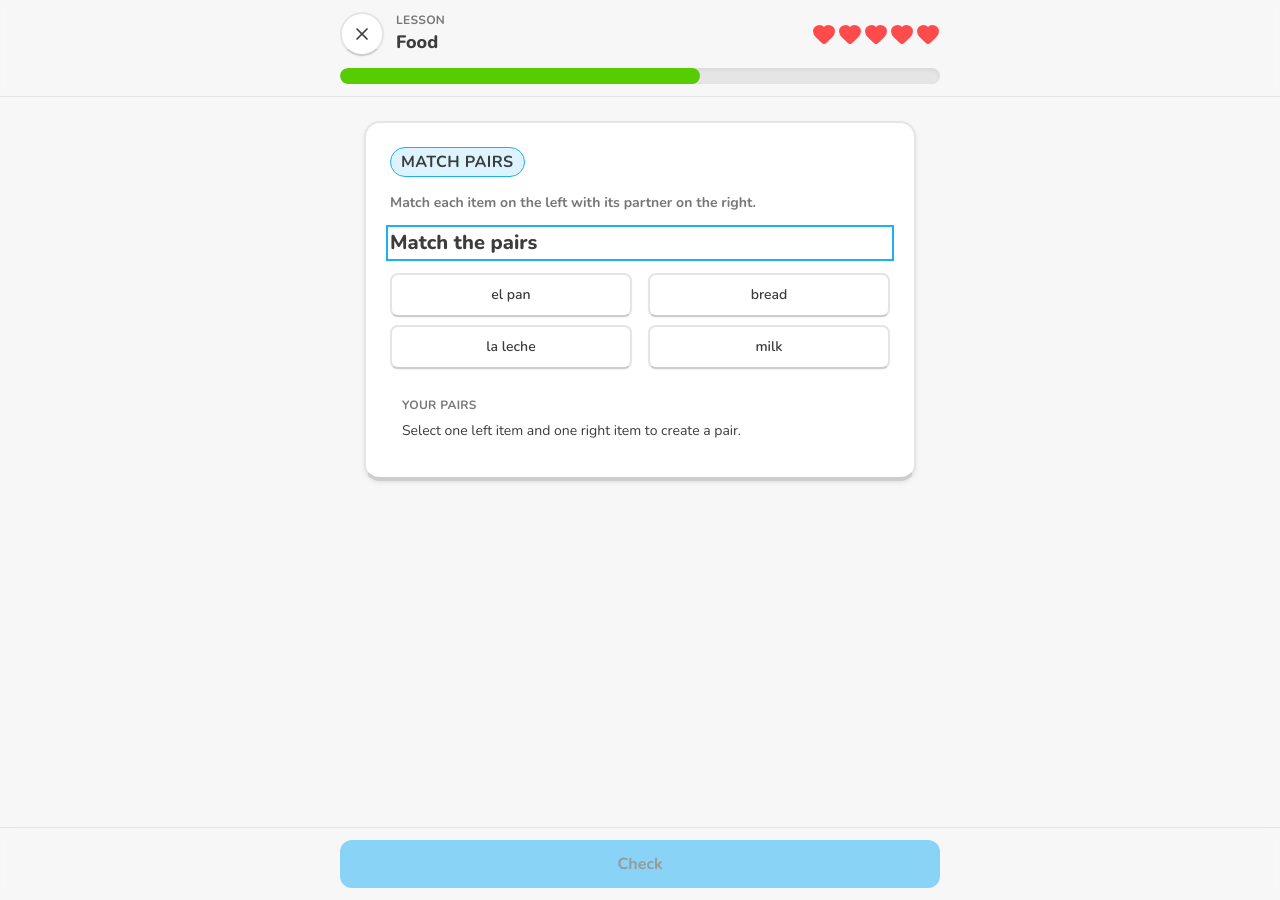
Test: Phase 10C feedback, failure, refill, and results › formats match-pair solutions accessibly after the answer response
Expected: the heading "Match the pairs" is shown, [390,229,537,256]
Click the button with aria-label "el pan, left item" at (511, 294), box [390,272,632,316]
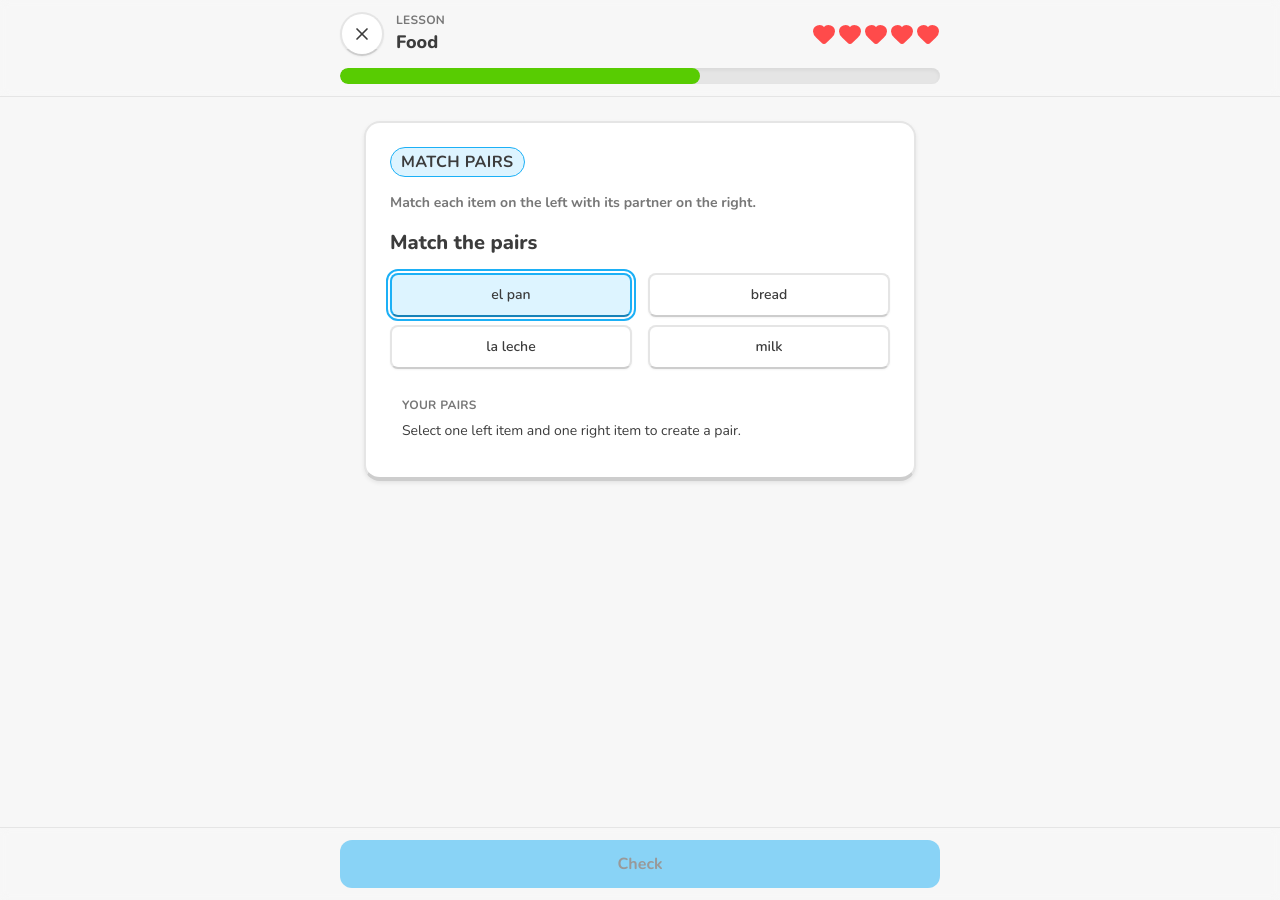
Click the button with aria-label "milk, right item" at (769, 346), box [648,324,890,368]
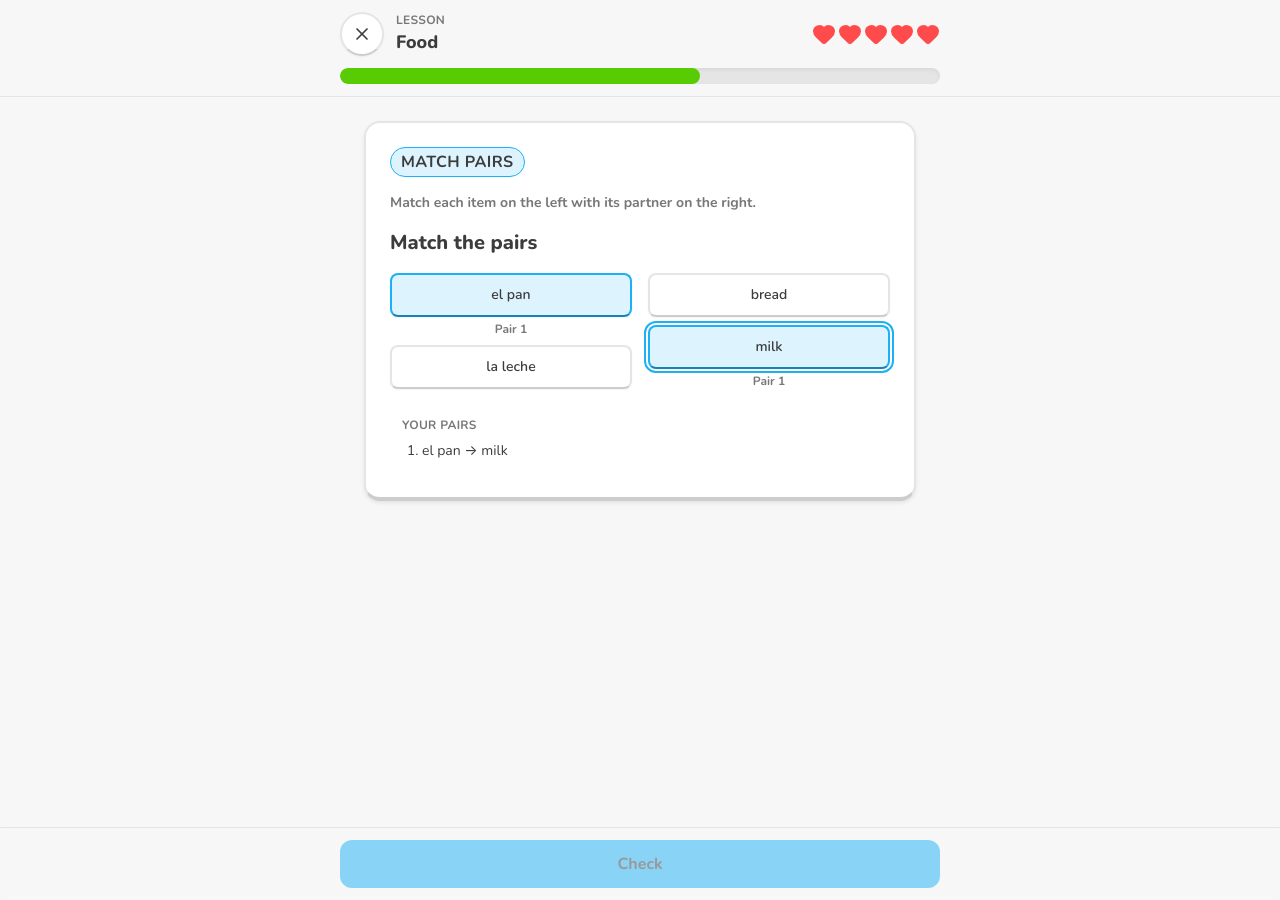
Click the button with aria-label "la leche, left item" at (511, 366), box [390,344,632,388]
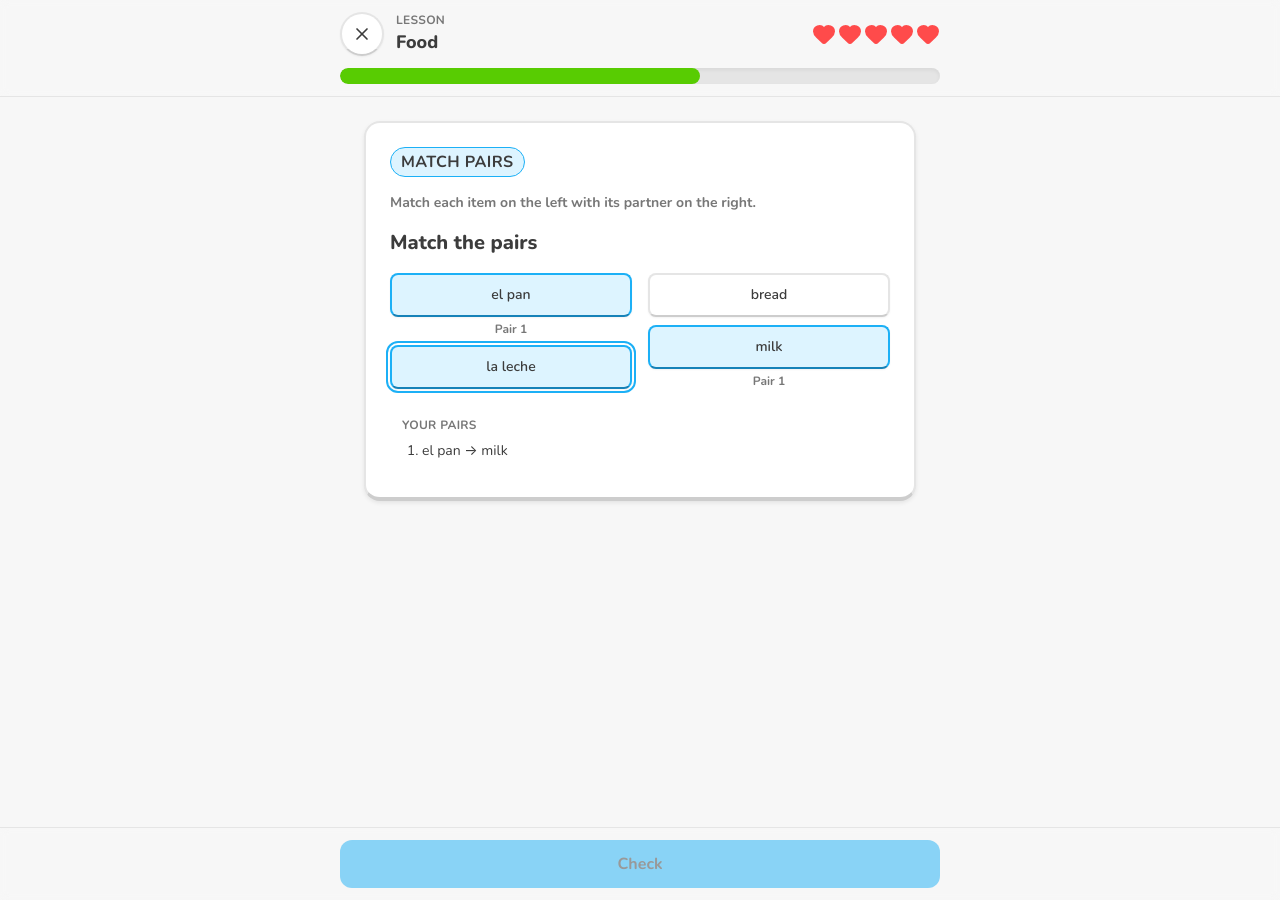
Click the button with aria-label "bread, right item" at (769, 294), box [648,272,890,316]
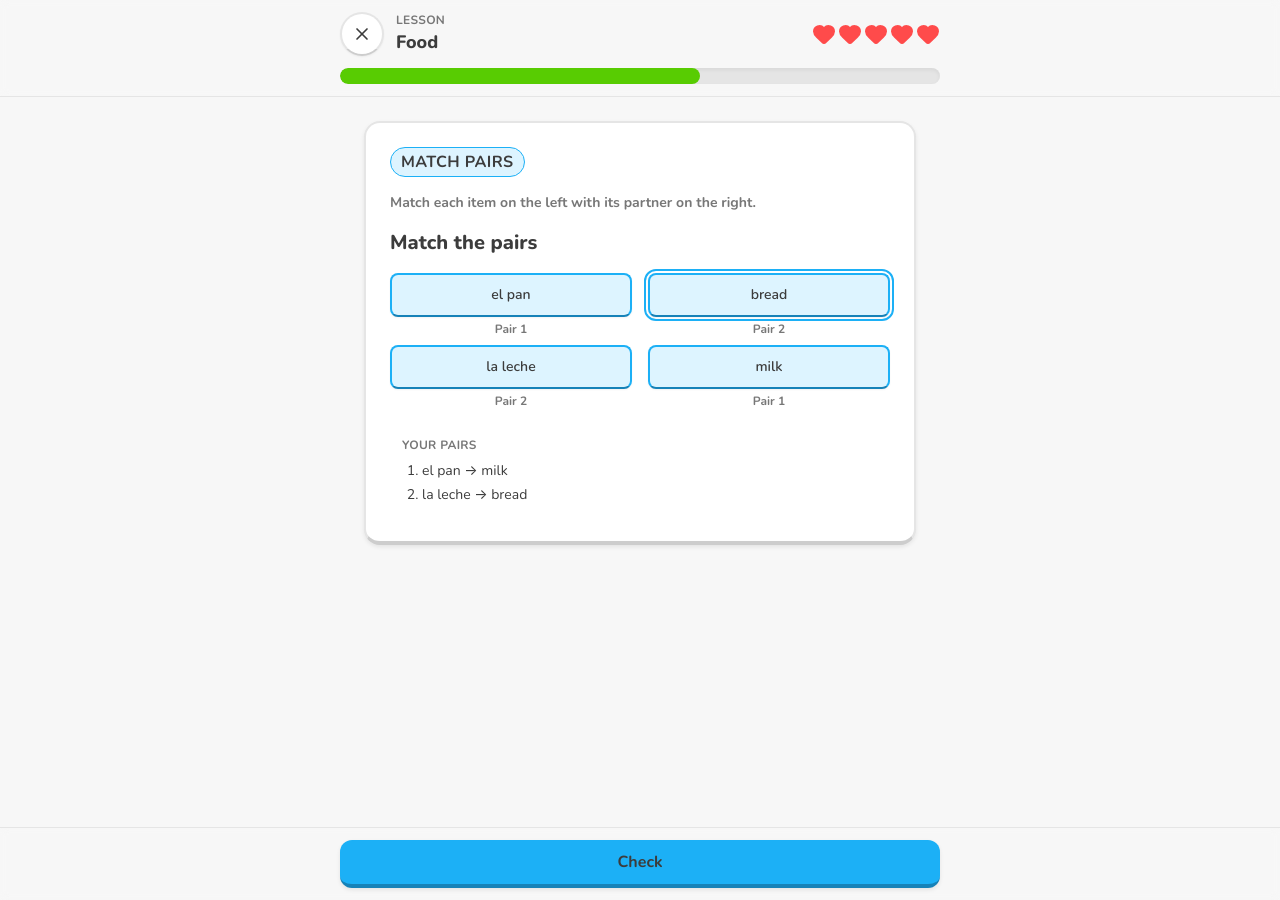
Click the button "Check" at (640, 864), box [340,840,940,888]
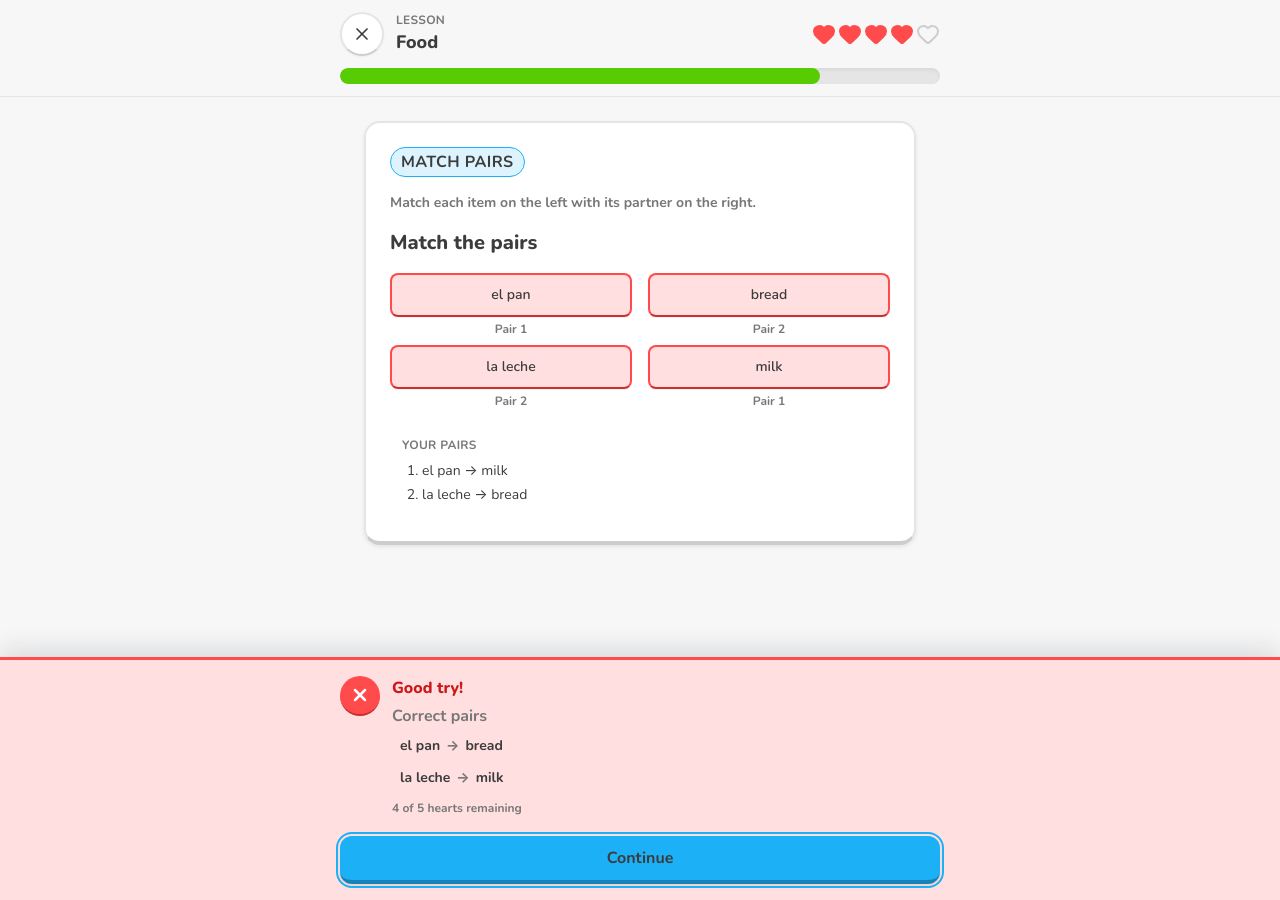
Result: the list named "el pan matches bread" is shown at [400,735,529,787]
